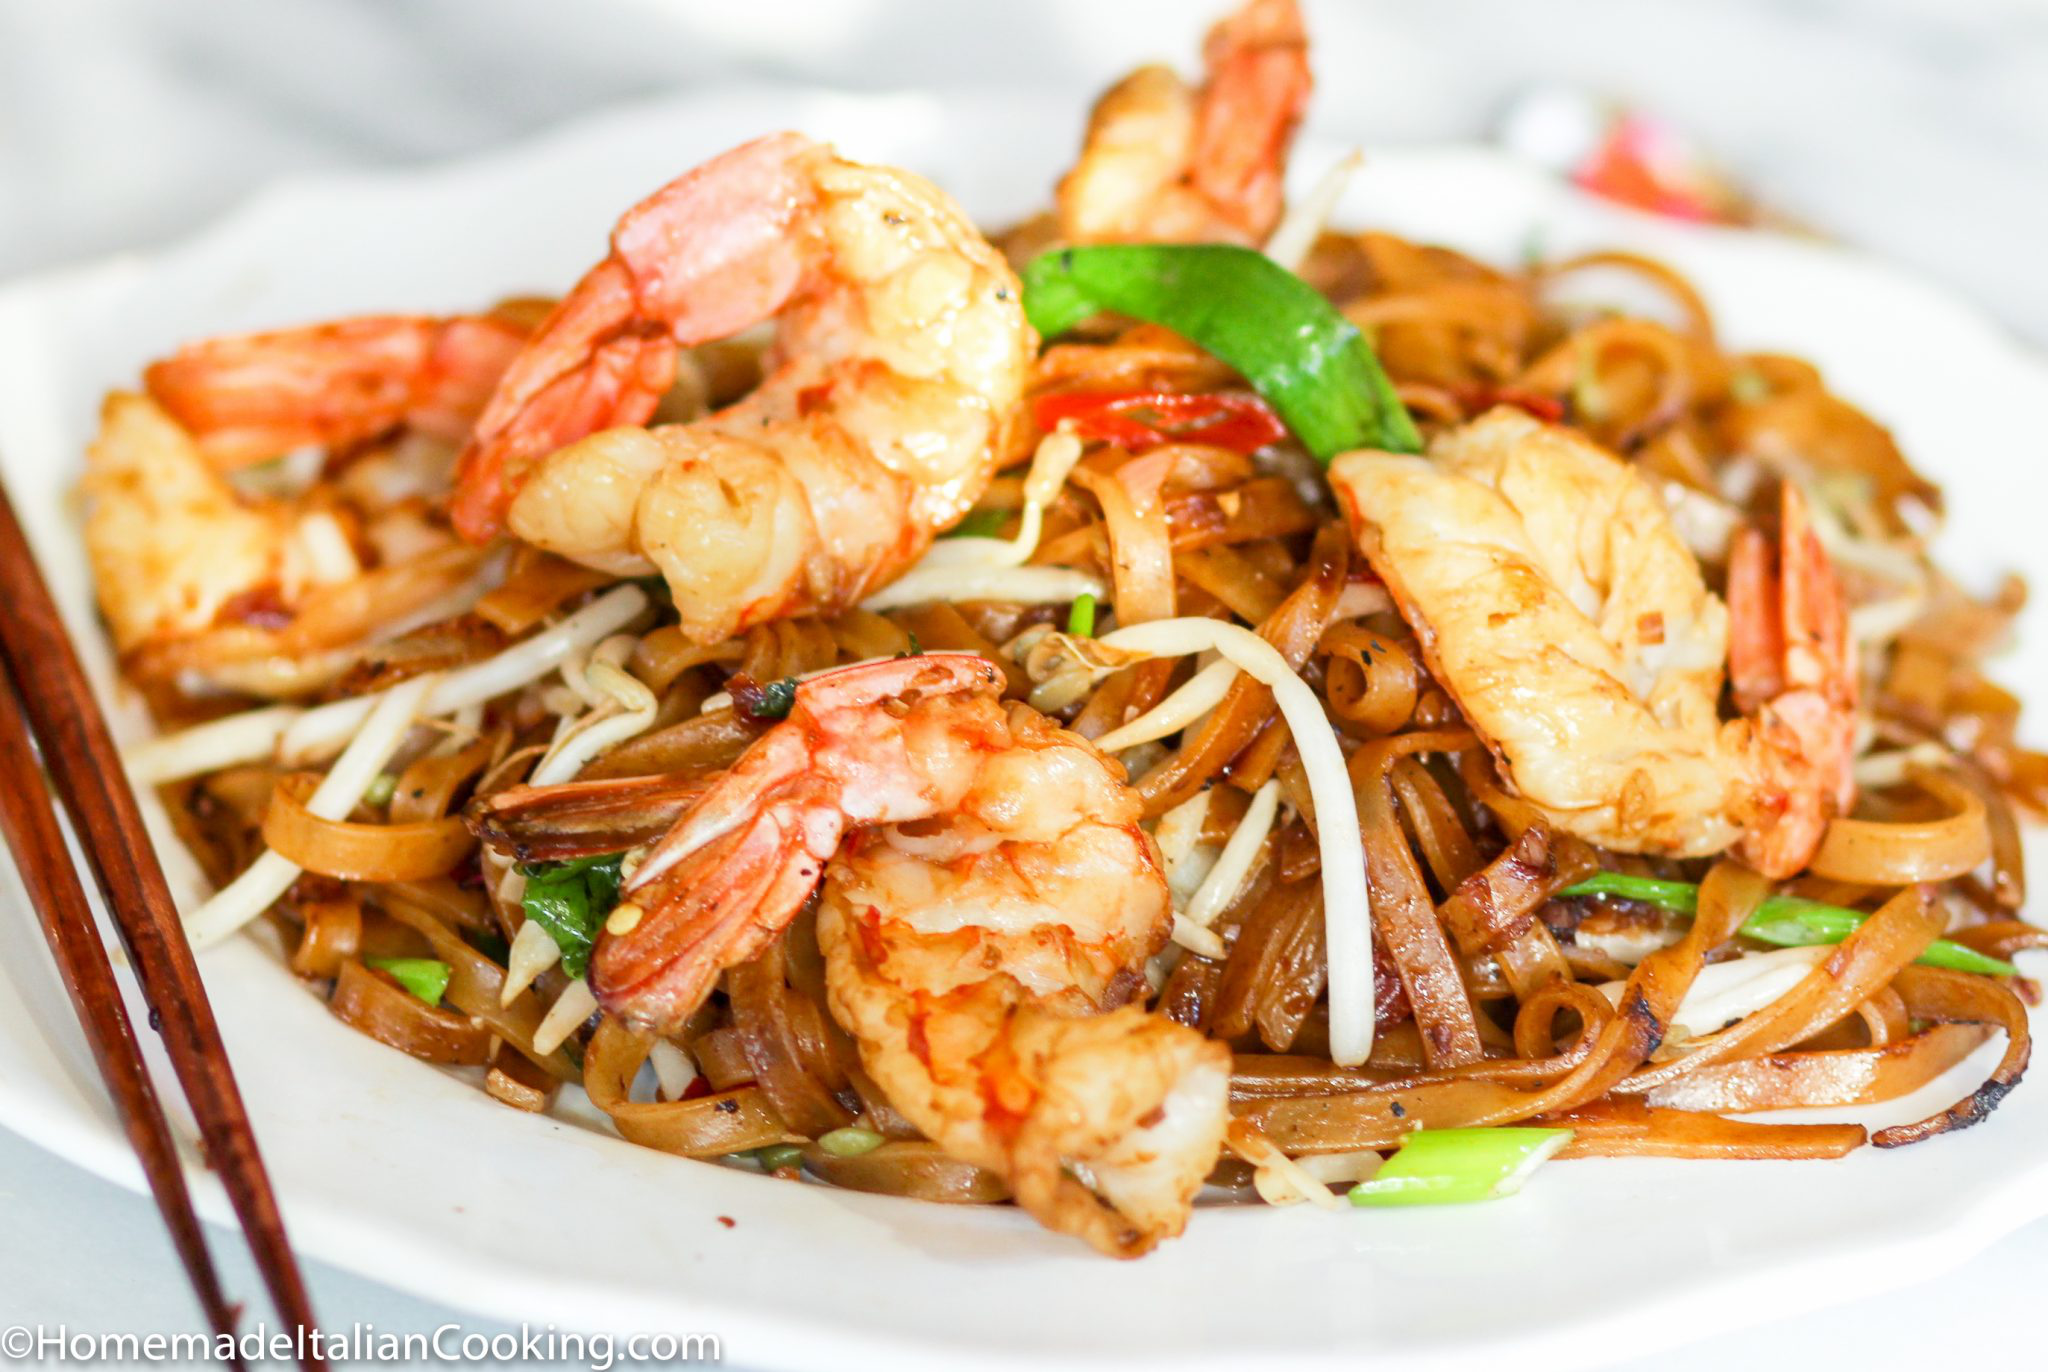Char Kway Teow: (167, 86, 1999, 1207)
